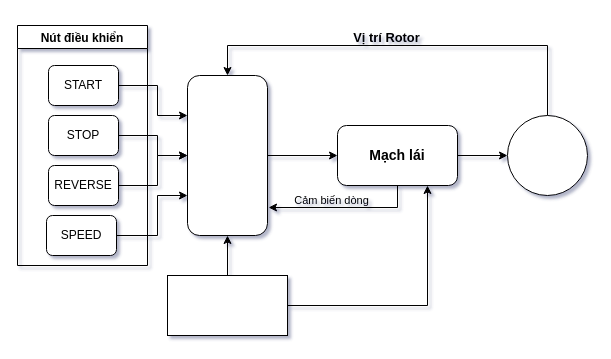
This 611x359 diagram has some shape labels left out. The shapes that lost their labels are listed below. From the top down, each one's centre as x and y in pixels, then its label:
At (227,155): "Vi Điều Khiển".
At (547,155): "Động cơ BLDC".
At (227,305): "Khối nguồn".
